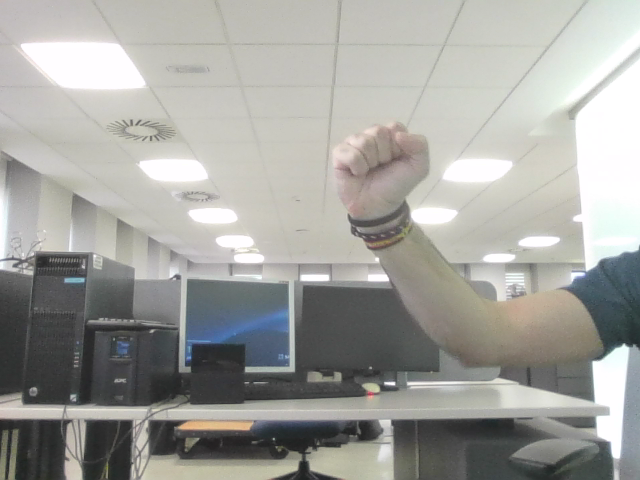Puño: (344, 128, 414, 191)
